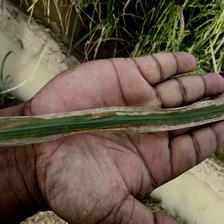2 BacterialBlight: (5, 102, 224, 140)
